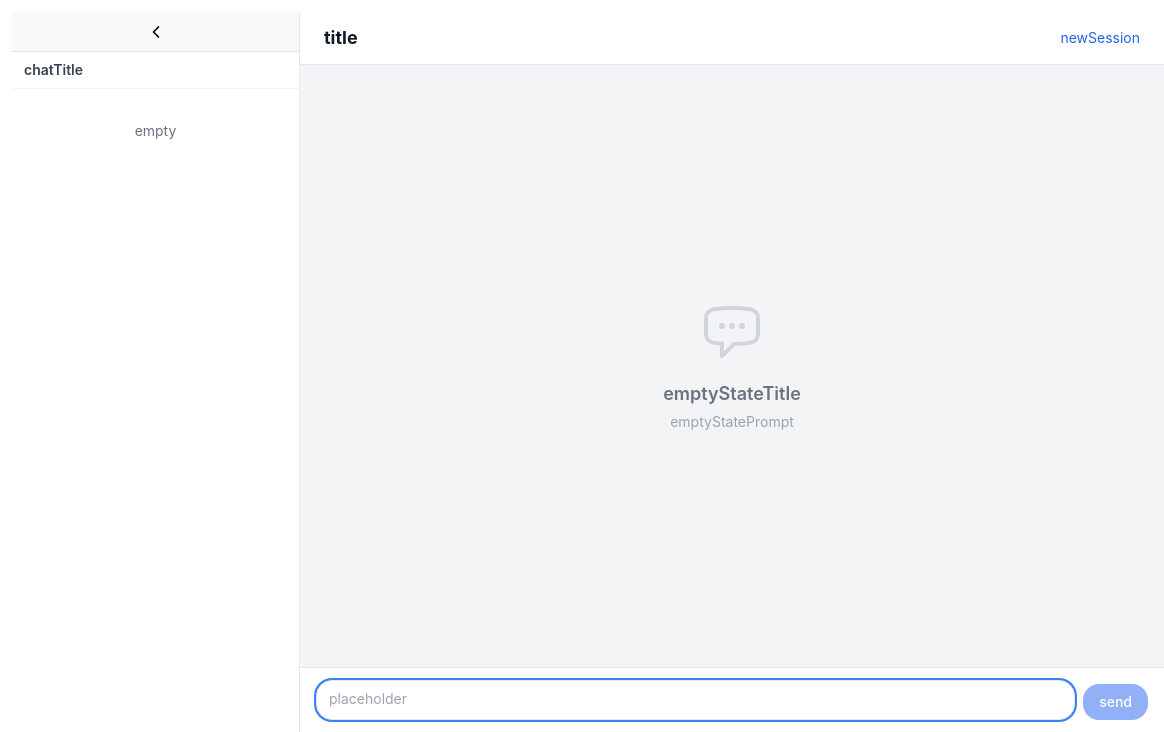
Chat Page Improvements › Loading Indicators (Req 3.3) › shows connecting indicator after sending a message before first token
The image size is (1164, 732).
Expected: the element with test id "chat-empty-state" is shown, [663, 300, 801, 430]
Note: Type and send a message
Step 1. Type "Hello doctor" into the text box → (696, 700), box [316, 680, 1075, 720]
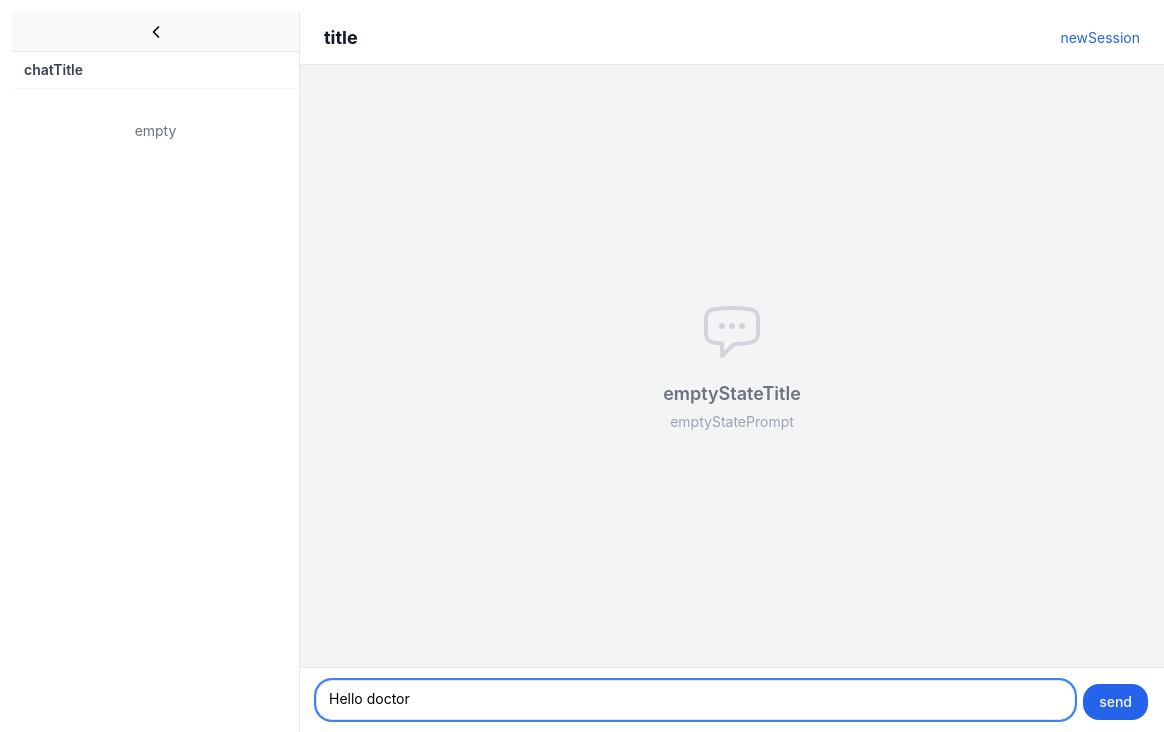
Step 2. Click the button "send" → (1116, 702), box [1083, 684, 1148, 720]
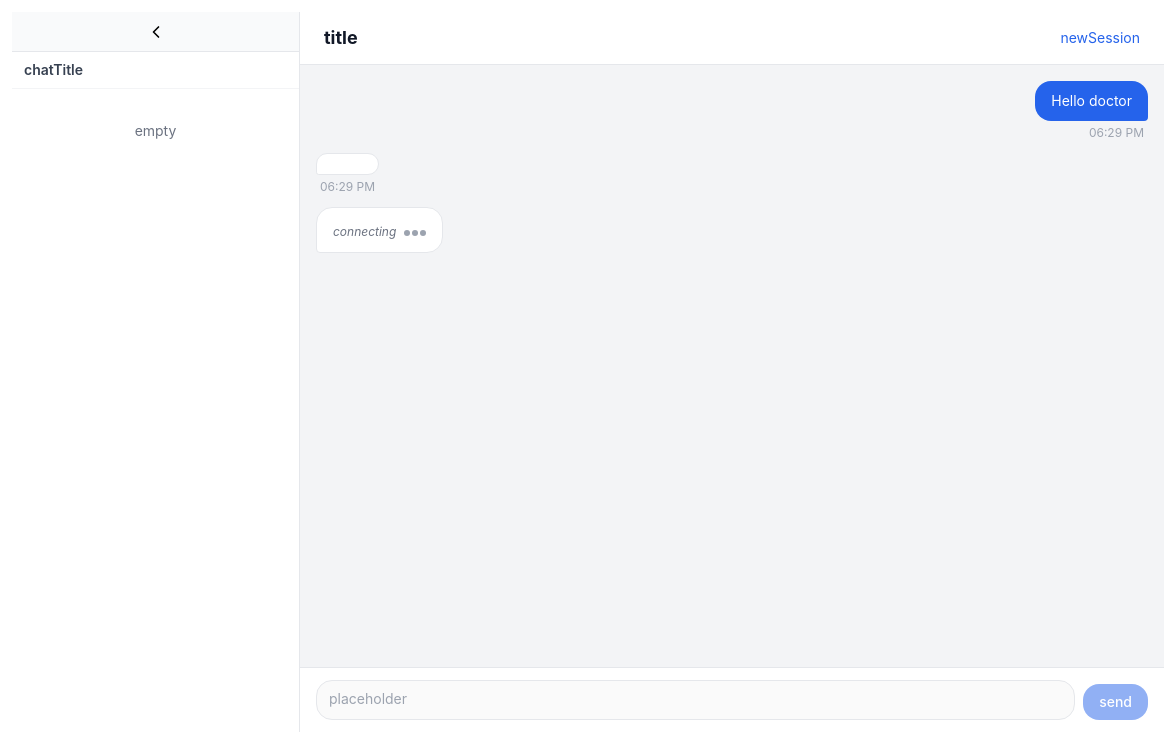
Result: the element with test id "connecting-indicator" is shown at [316, 207, 443, 253]
Result: the element with test id "connecting-indicator" reads "connecting" at [333, 224, 396, 239]
